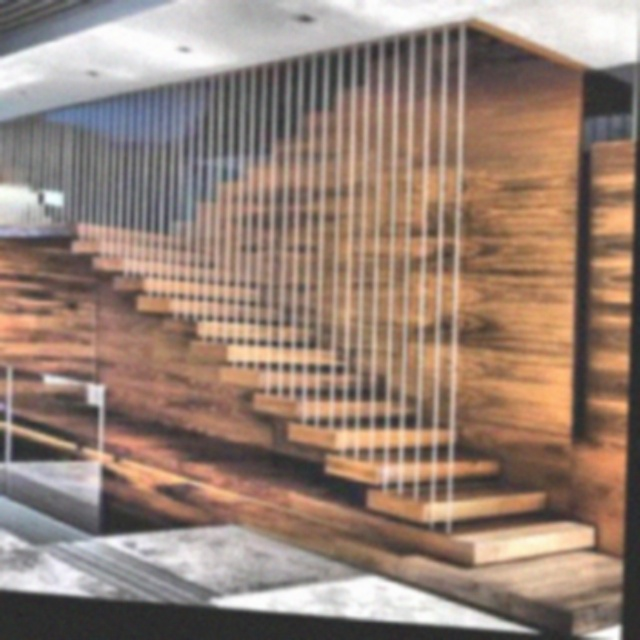stair: (2, 222, 604, 572)
